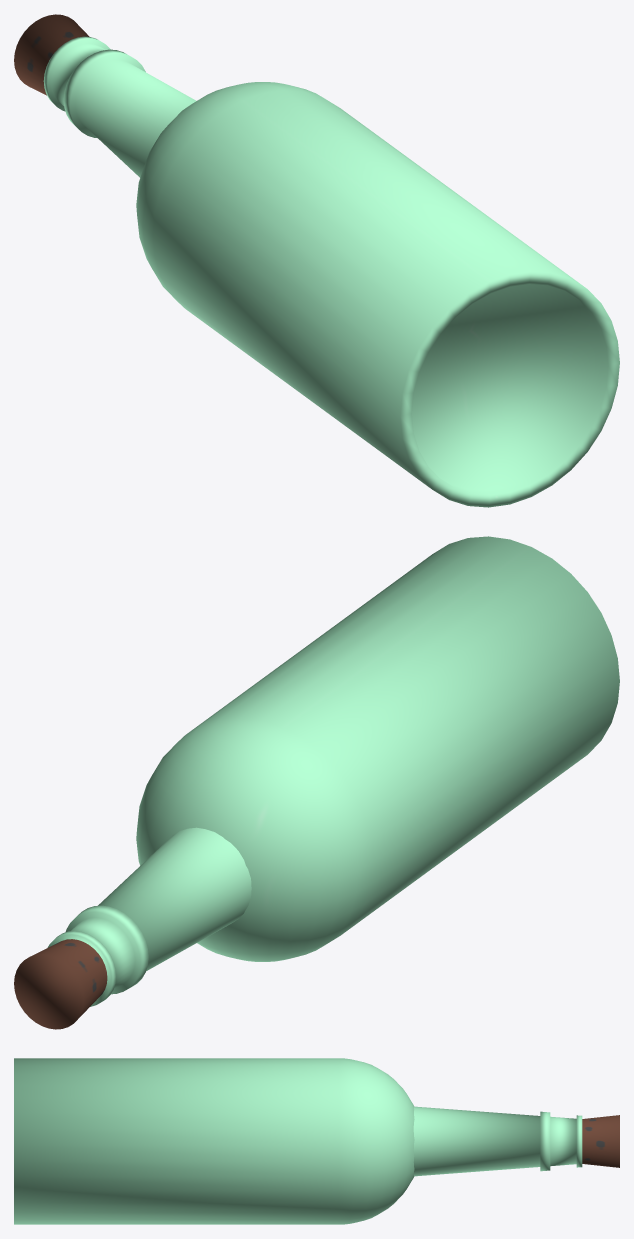
File: message-in-bottle.glb
3 renders of one model, top to bottom at view 1: azimuth 30°, elevation 25°; view 2: azimuth 150°, elevation 25°; view 3: azimuth 270°, elevation 25°, orthographic. The views are drawn at different scales.
Parts seen in each view (by area): view 1: Bottiglia, Collo Bottiglia; view 2: Bottiglia, Collo Bottiglia; view 3: Bottiglia, Collo Bottiglia.
Boxes of the visible parts, x1=… form: Bottiglia: x1=136, y1=82, x2=619, y2=507; Collo Bottiglia: x1=14, y1=14, x2=196, y2=177; Bottiglia: x1=136, y1=536, x2=619, y2=961; Collo Bottiglia: x1=14, y1=827, x2=251, y2=1029; Bottiglia: x1=14, y1=1058, x2=414, y2=1224; Collo Bottiglia: x1=413, y1=1106, x2=619, y2=1176.
Bounding box in the file's own units: 200 × 200 × 727.
4 materials, 4 textured.
